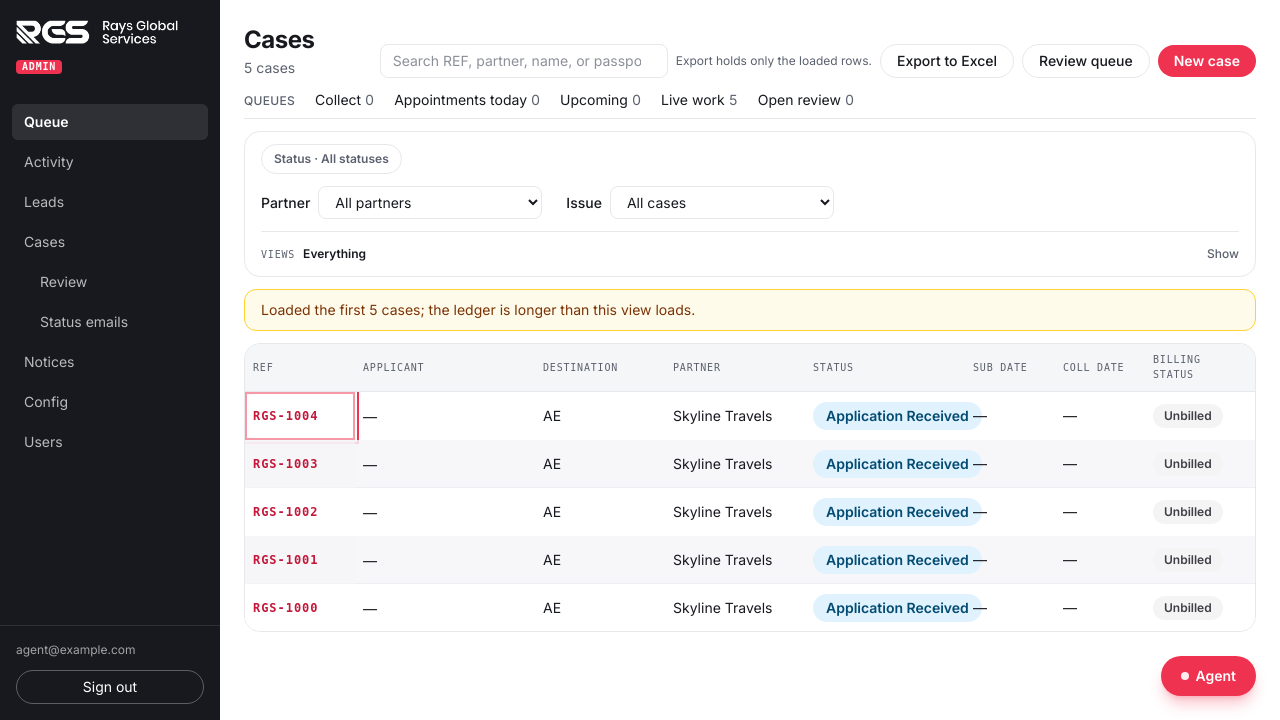
Test: LedgerPage — the partial-ledger banner › names the LOADED count, not the filtered count, when a client-side filter is also on (R48)
Type "RGS-1004" into the search field labelled "Search" at (524,61), box [380,44,668,78]
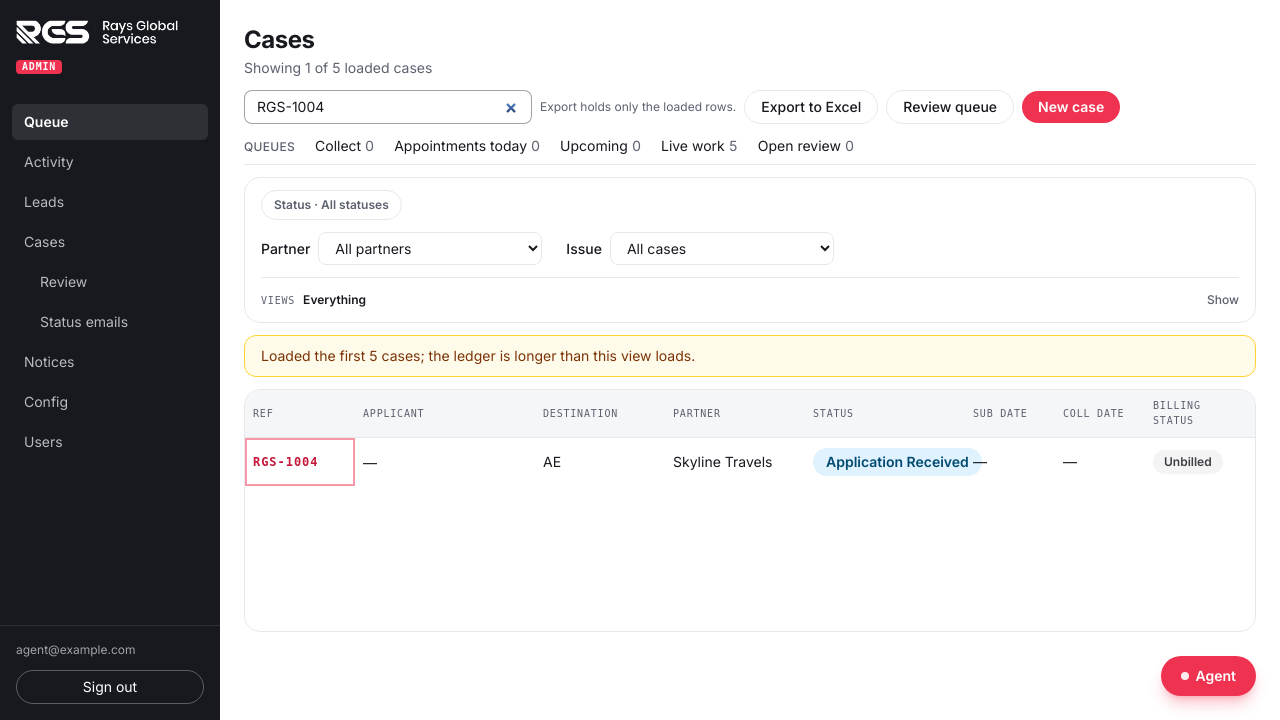
Check: the message shows "Loaded the first 5 cases", box [261,347,695,364]
Check: the number of elements with test id "ledger-row" is 1, box [245,438,1255,486]
